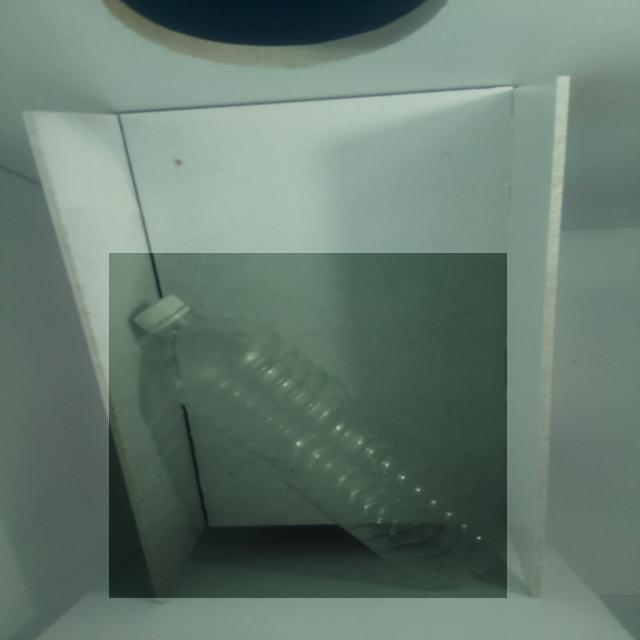BIODEGRADABLE: (109, 253, 507, 600)
